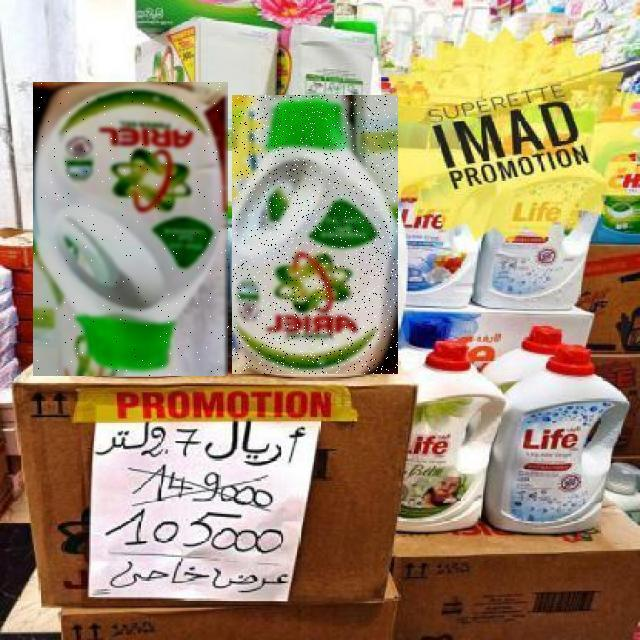Detergent: (34, 82, 230, 376), (233, 95, 399, 374)
